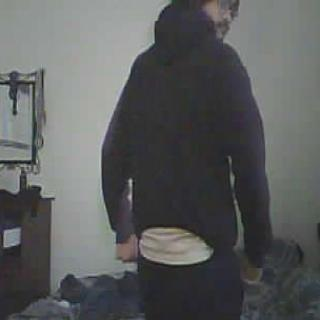Navy Sweatpants: (135, 250, 243, 320)
